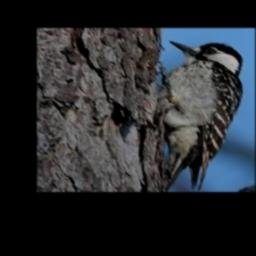Woodpecker: (134, 41, 244, 191)
